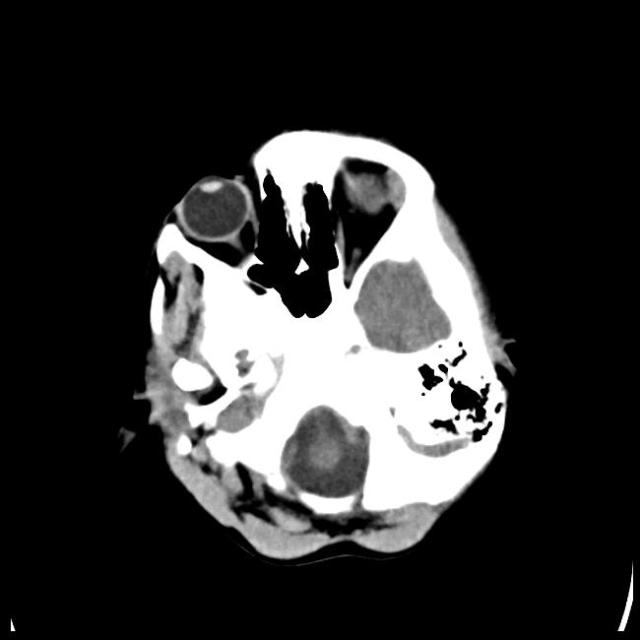lesion: (129, 124, 521, 566)
